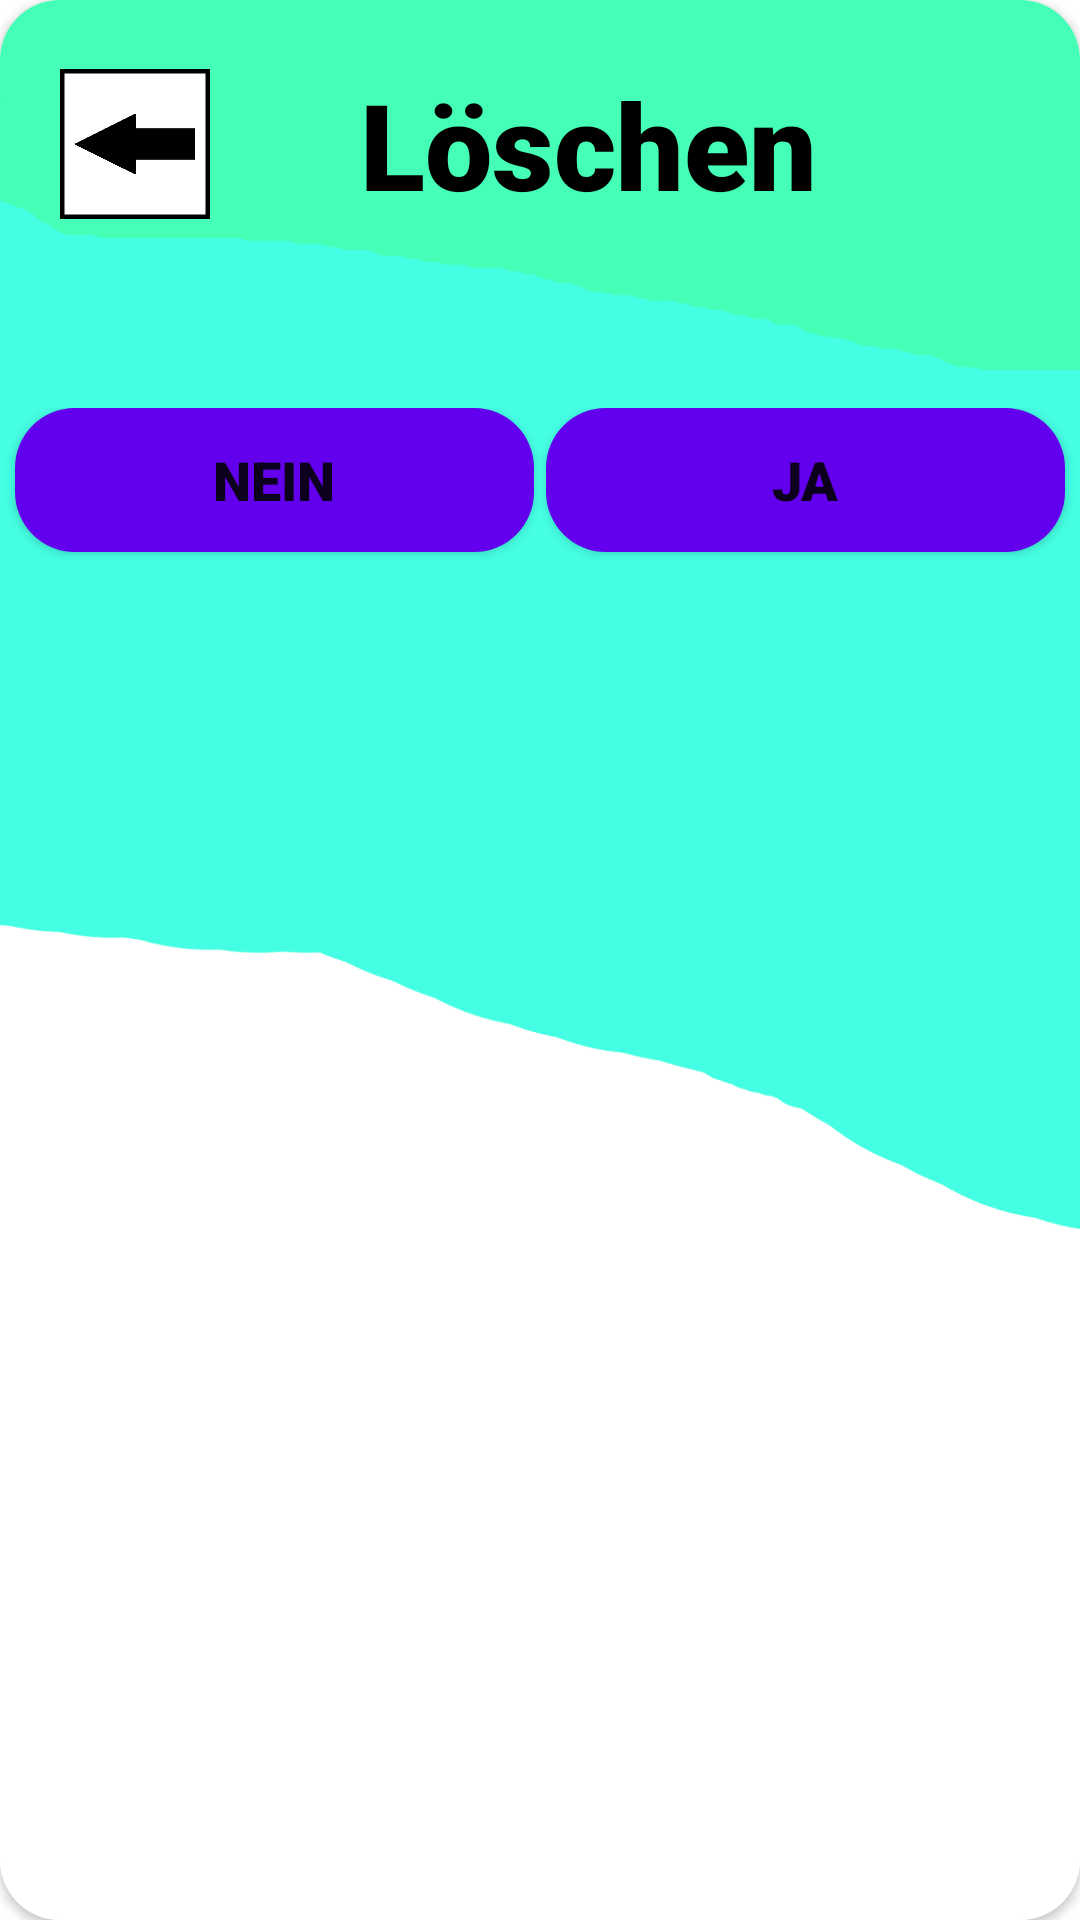

Point at icon controls on the screen. Image size 1080*1920, points as (x,y).
zurueck: (135,144)
